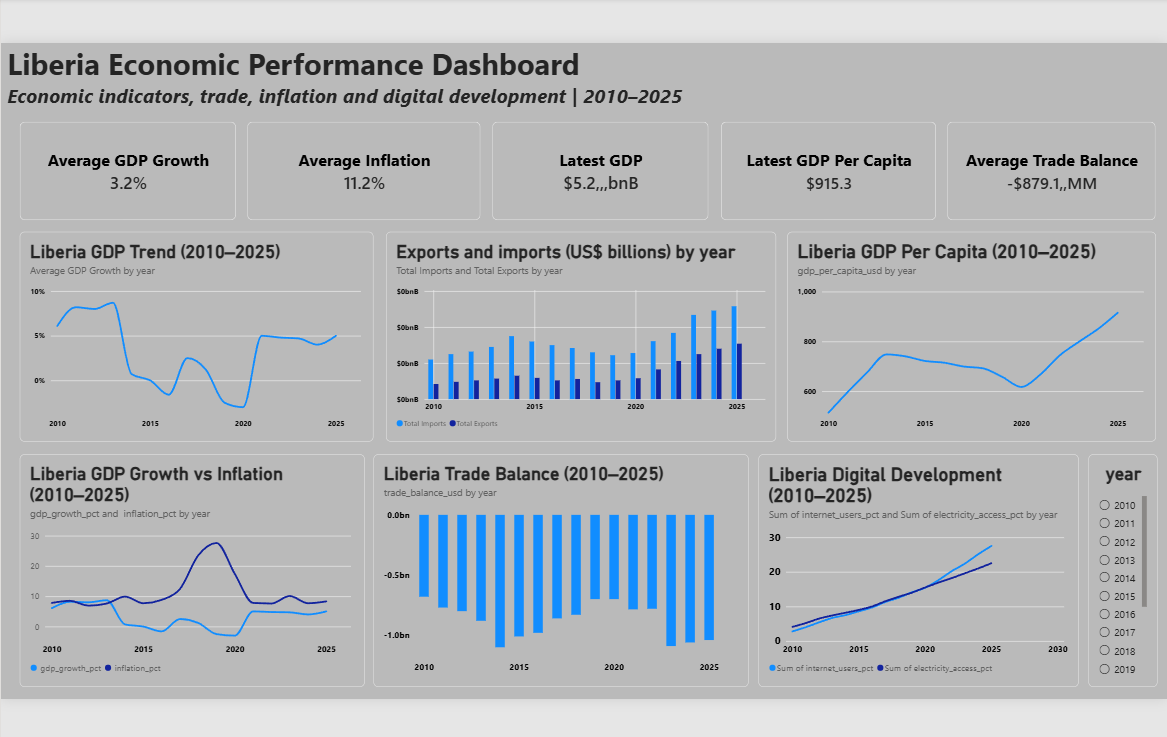

The page's visual inventory and layout, read from the dashboard file:
{"tool":"powerbi","page":{"name":"Page 1","canvas":[1920,1080],"ordinal":0},"visuals":[{"type":"cardVisual","fields":{"Data":["liberia_economic_analysis.Average GDP Growth"]},"box":[30.9,129.7,356.1,162.6],"z":7},{"type":"cardVisual","fields":{"Data":["liberia_economic_analysis.Average Trade Balance"]},"box":[1558.2,129.7,343.7,162.6],"z":10},{"type":"cardVisual","fields":{"Data":["liberia_economic_analysis.Latest GDP Per Capita"]},"box":[1185.6,129.7,354,162.6],"z":11},{"type":"cardVisual","fields":{"Data":["liberia_economic_analysis.Latest GDP"]},"box":[808.9,129.7,356.1,162.6],"z":12},{"type":"textbox","box":[10.3,0,1206.2,107],"z":13},{"type":"lineChart","title":"Liberia GDP Trend (2010–2025)","fields":{"Category":["liberia_economic_analysis.year"],"Y":["liberia_economic_analysis.Average GDP Growth"]},"box":[30.9,310.8,582.5,345.8],"z":14},{"type":"clusteredColumnChart","title":"Exports and imports (US$ billions) by year","fields":{"Category":["liberia_economic_analysis.year"],"Y":["liberia_economic_analysis.Total Imports","liberia_economic_analysis.Total Exports"]},"box":[634,310.8,642.2,345.8],"z":16},{"type":"lineChart","title":"Liberia GDP Growth vs Inflation (2010–2025)","fields":{"Category":["liberia_economic_analysis.year"],"Y":["Sum(liberia_economic_analysis.gdp_growth_pct)","Sum(liberia_economic_analysis.inflation_pct)"]},"box":[30.9,677.2,568.1,382.8],"z":17},{"type":"columnChart","title":"Liberia Trade Balance (2010–2025)","fields":{"Category":["liberia_economic_analysis.year"],"Y":["Sum(liberia_economic_analysis.trade_balance_usd)"]},"box":[613.4,677.2,617.5,382.8],"z":18},{"type":"cardVisual","fields":{"Data":["liberia_economic_analysis.Average Inflation"]},"box":[405.5,129.7,384.9,162.6],"z":20},{"type":"lineChart","title":"Liberia GDP Per Capita (2010–2025)","fields":{"Category":["liberia_economic_analysis.year"],"Y":["Sum(liberia_economic_analysis.gdp_per_capita_usd)"]},"box":[1294.7,310.8,607.2,345.8],"z":21},{"type":"listSlicer","fields":{"Values":["liberia_economic_analysis.year"]},"box":[1790.7,677.2,113.2,382.8],"z":22},{"type":"lineChart","title":"Liberia Digital Development (2010–2025)","fields":{"Category":["liberia_economic_analysis.year"],"Y":["Sum(liberia_economic_analysis.internet_users_pct)","Sum(liberia_economic_analysis.electricity_access_pct)"]},"box":[1247.3,677.2,526.9,382.8],"z":23}]}

Visuals, with their boxes on the page's 1920x1080 design canvas (x1, y1, x2, y2). These are canvas units, not pixel positions in the 1167x737 screenshot, which may show the page scaled, cropped or inside an application window:
cardVisual - liberia_economic_analysis.Average GDP Growth: {"x1": 31, "y1": 130, "x2": 387, "y2": 292}
cardVisual - liberia_economic_analysis.Average Trade Balance: {"x1": 1558, "y1": 130, "x2": 1902, "y2": 292}
cardVisual - liberia_economic_analysis.Latest GDP Per Capita: {"x1": 1186, "y1": 130, "x2": 1540, "y2": 292}
cardVisual - liberia_economic_analysis.Latest GDP: {"x1": 809, "y1": 130, "x2": 1165, "y2": 292}
textbox: {"x1": 10, "y1": 0, "x2": 1216, "y2": 107}
"Liberia GDP Trend (2010–2025)" lineChart: {"x1": 31, "y1": 311, "x2": 613, "y2": 657}
"Exports and imports (US$ billions) by year" clusteredColumnChart: {"x1": 634, "y1": 311, "x2": 1276, "y2": 657}
"Liberia GDP Growth vs Inflation (2010–2025)" lineChart: {"x1": 31, "y1": 677, "x2": 599, "y2": 1060}
"Liberia Trade Balance (2010–2025)" columnChart: {"x1": 613, "y1": 677, "x2": 1231, "y2": 1060}
cardVisual - liberia_economic_analysis.Average Inflation: {"x1": 406, "y1": 130, "x2": 790, "y2": 292}
"Liberia GDP Per Capita (2010–2025)" lineChart: {"x1": 1295, "y1": 311, "x2": 1902, "y2": 657}
listSlicer - liberia_economic_analysis.year: {"x1": 1791, "y1": 677, "x2": 1904, "y2": 1060}
"Liberia Digital Development (2010–2025)" lineChart: {"x1": 1247, "y1": 677, "x2": 1774, "y2": 1060}
